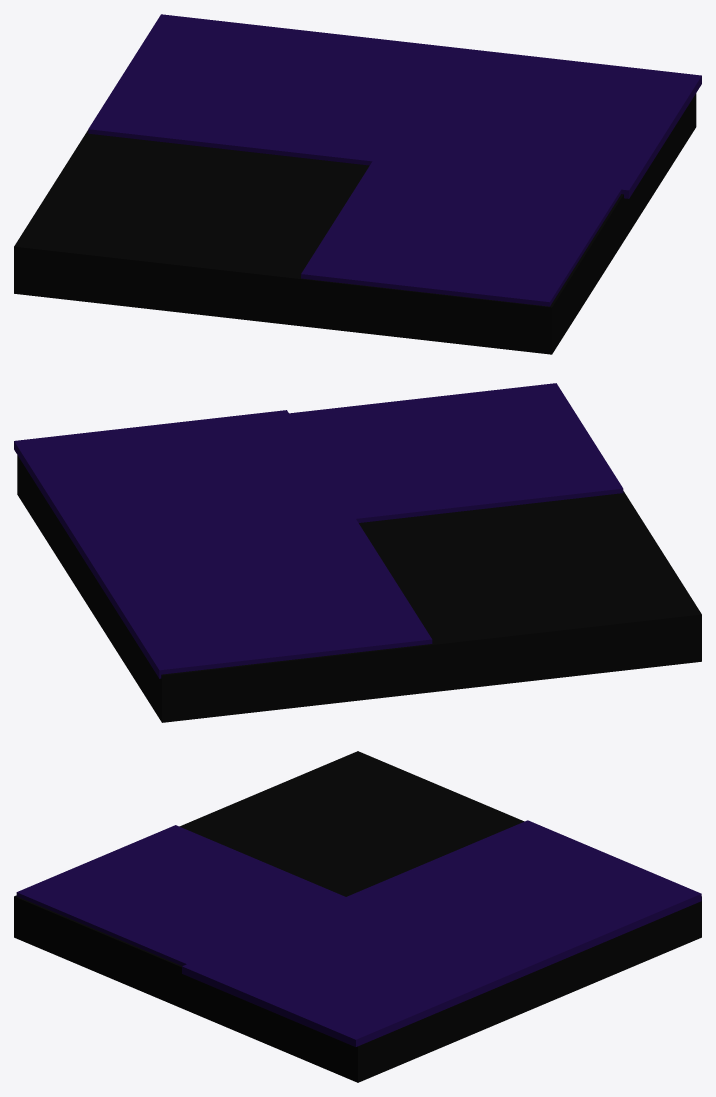
The model's file is Base Block.fbx.
The picture shows the model from 3 angles, top to bottom: view 1: azimuth 30°, elevation 25°; view 2: azimuth 150°, elevation 25°; view 3: azimuth 270°, elevation 25°; orthographic projection. The views are drawn at different scales.
Parts seen in each view (by area): view 1: Cube2, Cube, Cube10; view 2: Cube2, Cube, Cube10; view 3: Cube2, Cube, Cube10.
Boxes of the visible parts, x1=… form: Cube2: x1=88, y1=14, x2=701, y2=198; Cube: x1=14, y1=93, x2=696, y2=354; Cube10: x1=301, y1=153, x2=628, y2=306; Cube2: x1=14, y1=410, x2=432, y2=678; Cube: x1=17, y1=455, x2=701, y2=722; Cube10: x1=255, y1=383, x2=623, y2=522; Cube2: x1=182, y1=820, x2=701, y2=1046; Cube: x1=14, y1=751, x2=701, y2=1082; Cube10: x1=16, y1=825, x2=366, y2=972.
Size of what is drawn, in the model's own units: 8466 by 8409 by 607.
